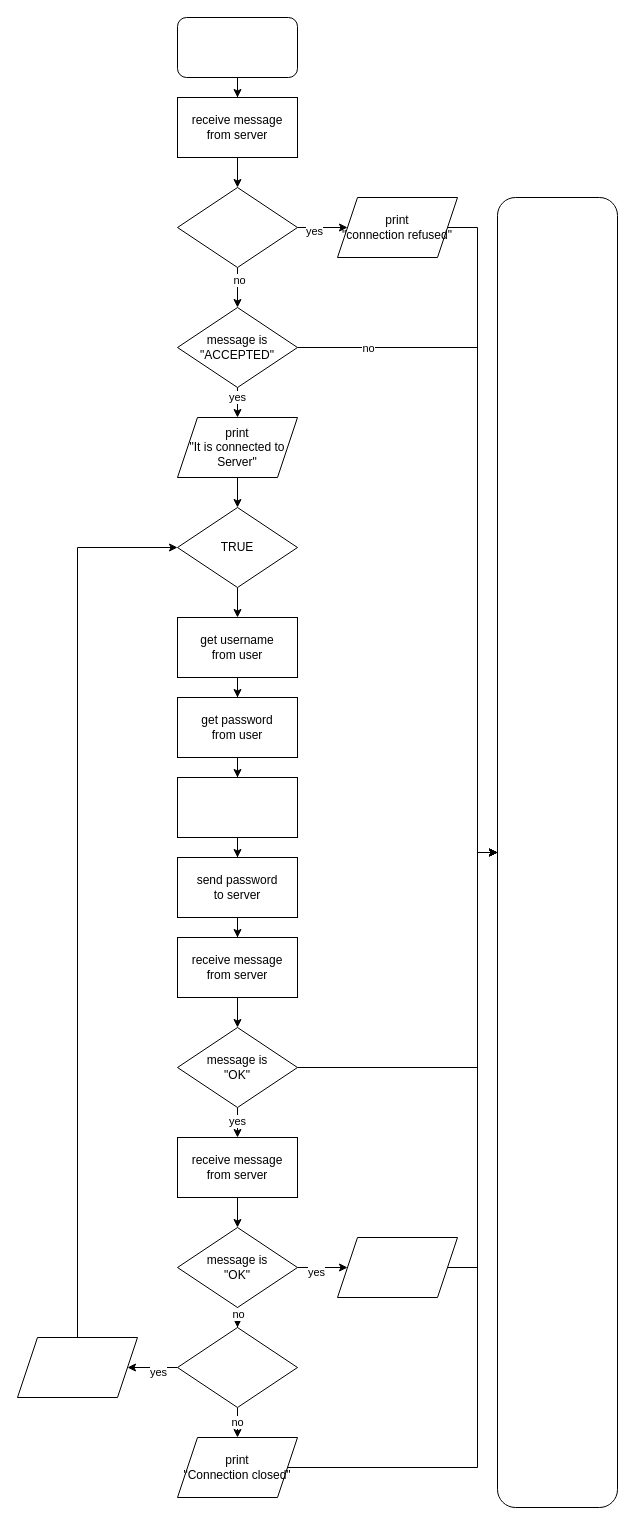
This 635x1525 diagram has some shape labels left out. Here are the shapes that lost their labels. From the top down, the centre of each, then its label:
[237,47]: start
[237,227]: message is "REJECTION"
[237,807]: send username to server
[557,852]: end
[397,1267]: print "User xxx logged in"
[77,1367]: print "Log-in failed"
[237,1367]: message is "FAIL"
